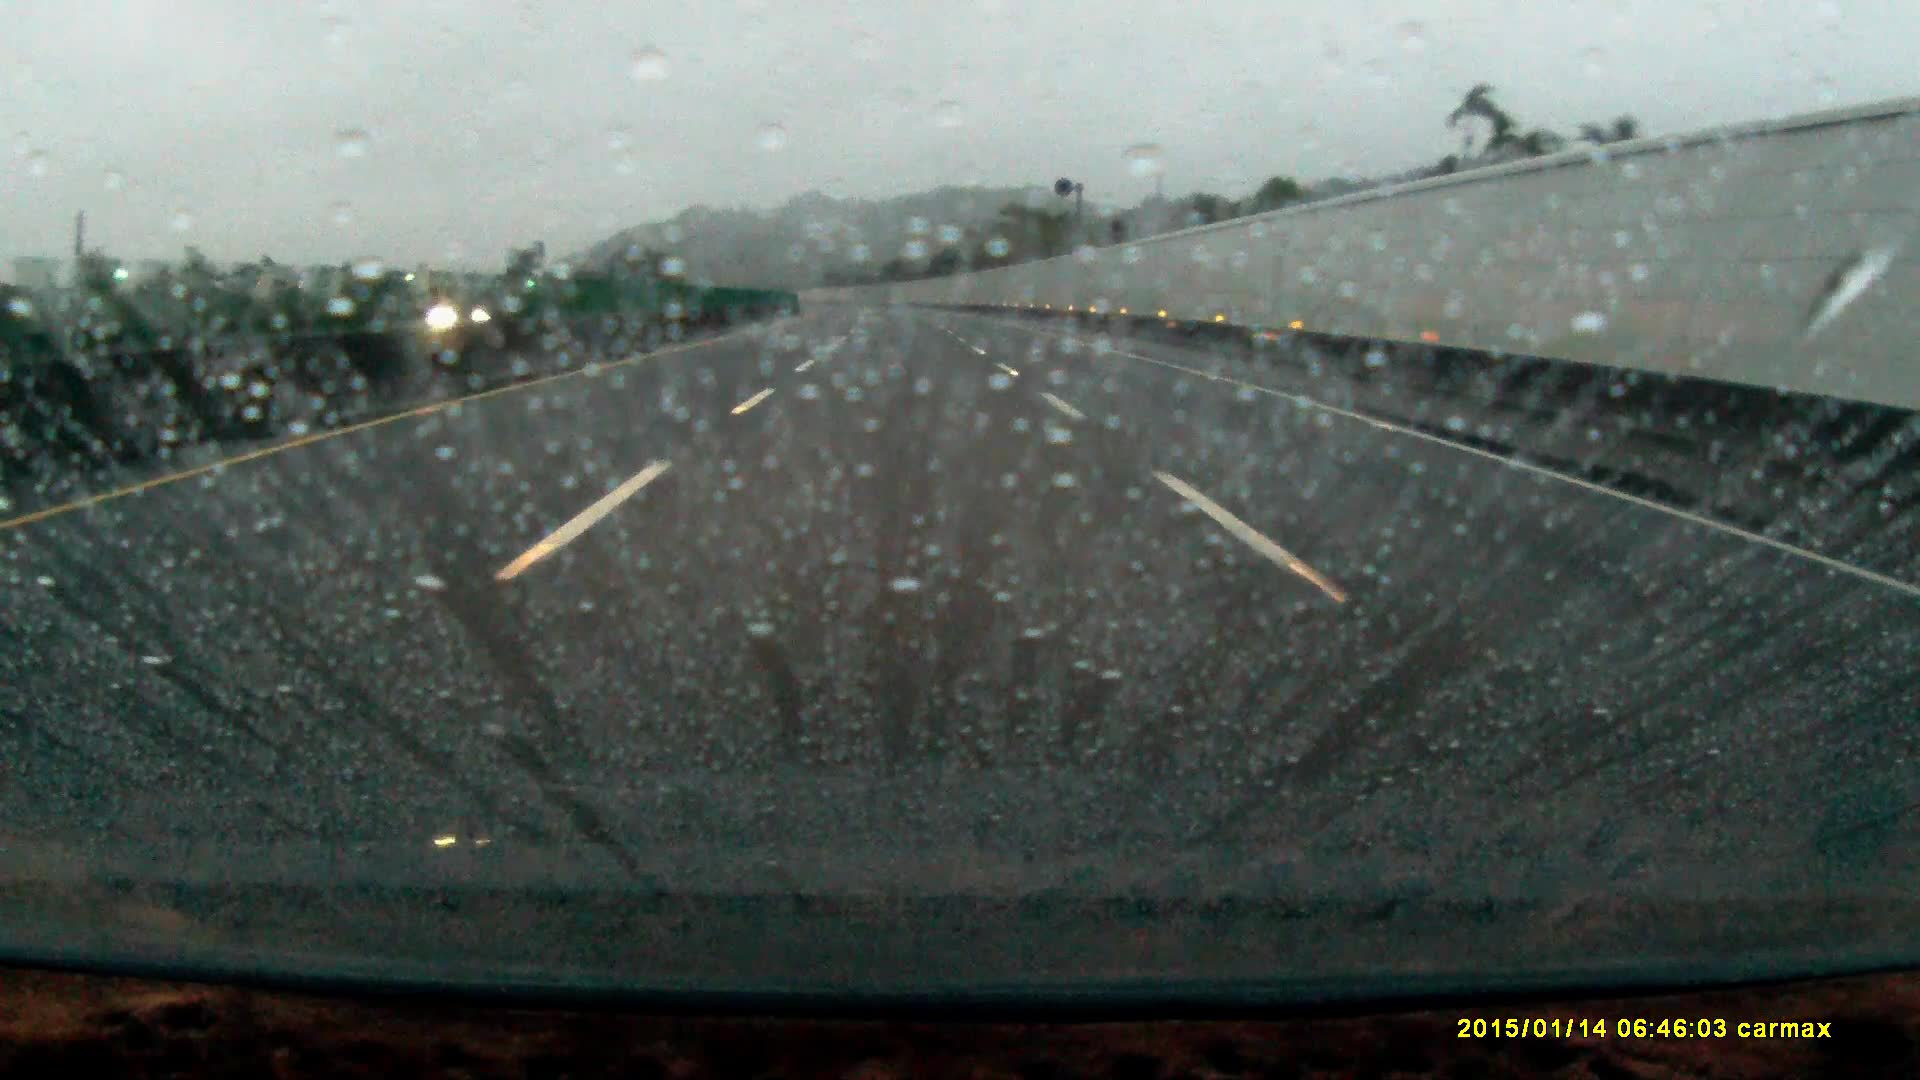vehicle: (429, 290, 516, 331)
